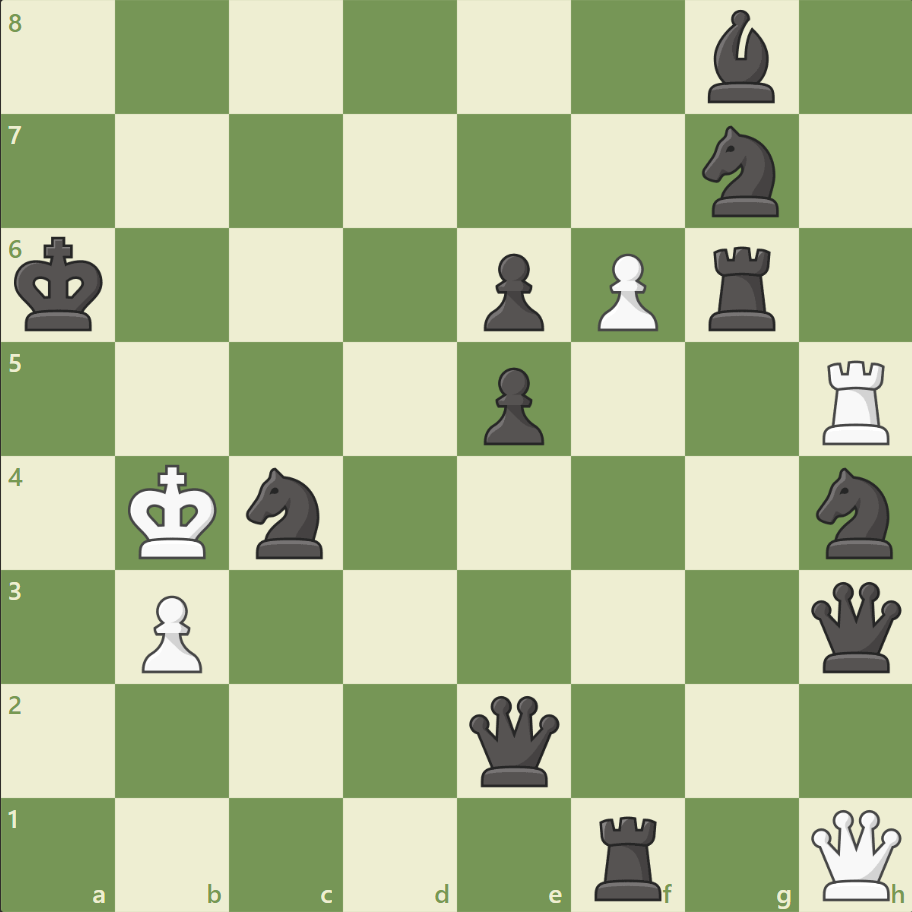K: (124, 458, 224, 566)
P: (133, 586, 208, 677), (588, 246, 662, 337)
Q: (805, 804, 904, 903)
R: (814, 352, 897, 449)
b: (698, 6, 782, 109)
k: (11, 231, 111, 339)
n: (238, 461, 335, 564), (806, 461, 903, 564), (692, 121, 789, 223)
p: (474, 246, 549, 337), (474, 359, 549, 450)
q: (805, 576, 904, 676), (464, 690, 563, 789)
r: (587, 806, 670, 904), (700, 239, 783, 336)
